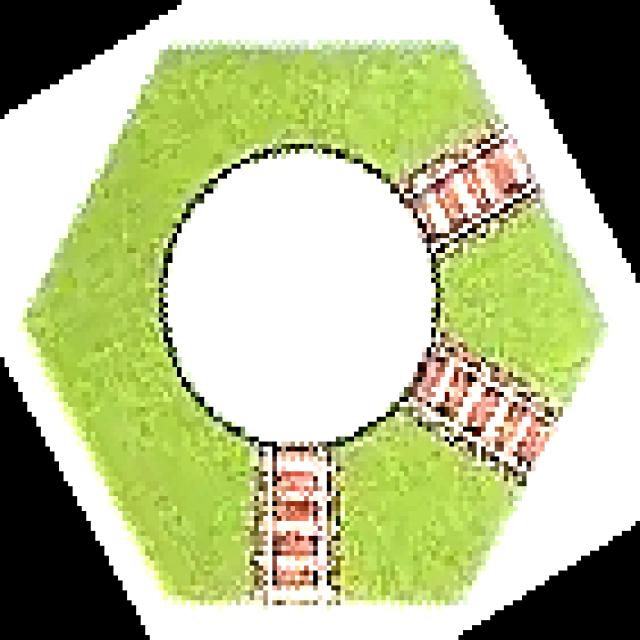12_2: (29, 44, 610, 600)
